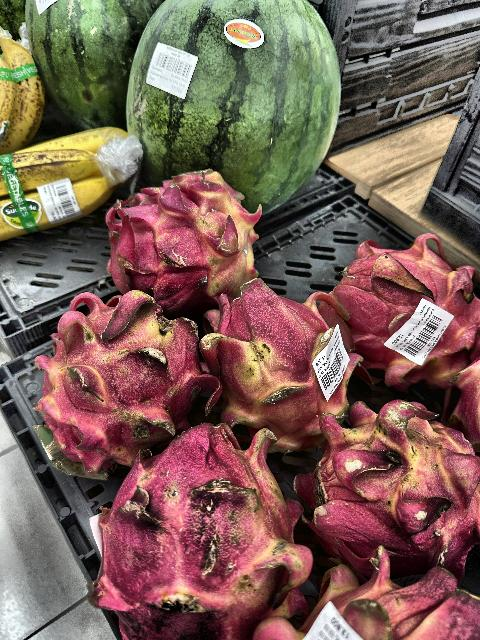buah-naga-belum-matang: (100, 410, 308, 630), (32, 283, 214, 469), (300, 399, 480, 566), (198, 270, 356, 434), (316, 232, 478, 382), (107, 163, 257, 295), (266, 566, 480, 640)
